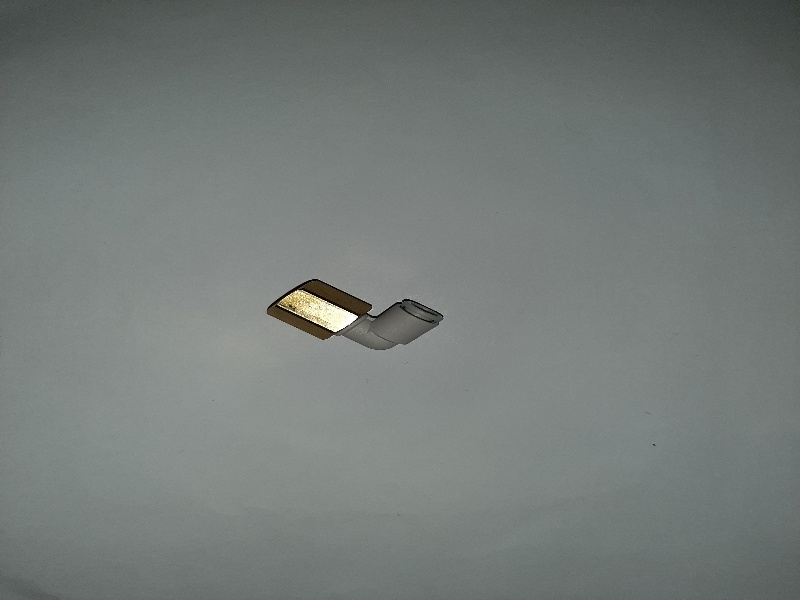Connector: (269, 272, 445, 357)
